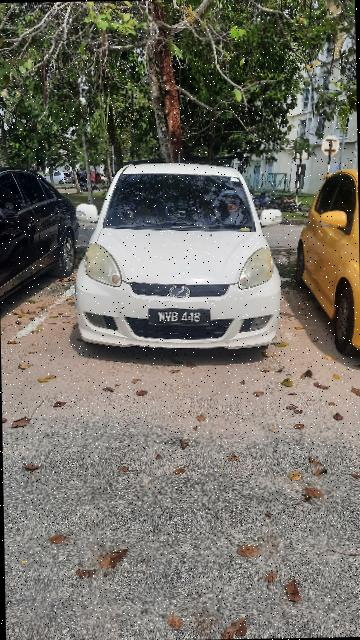License_Plate: (145, 307, 216, 330)
car: (64, 151, 287, 357)
